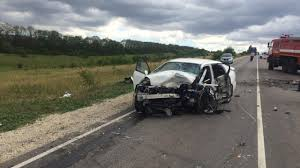car: (126, 43, 248, 115)
